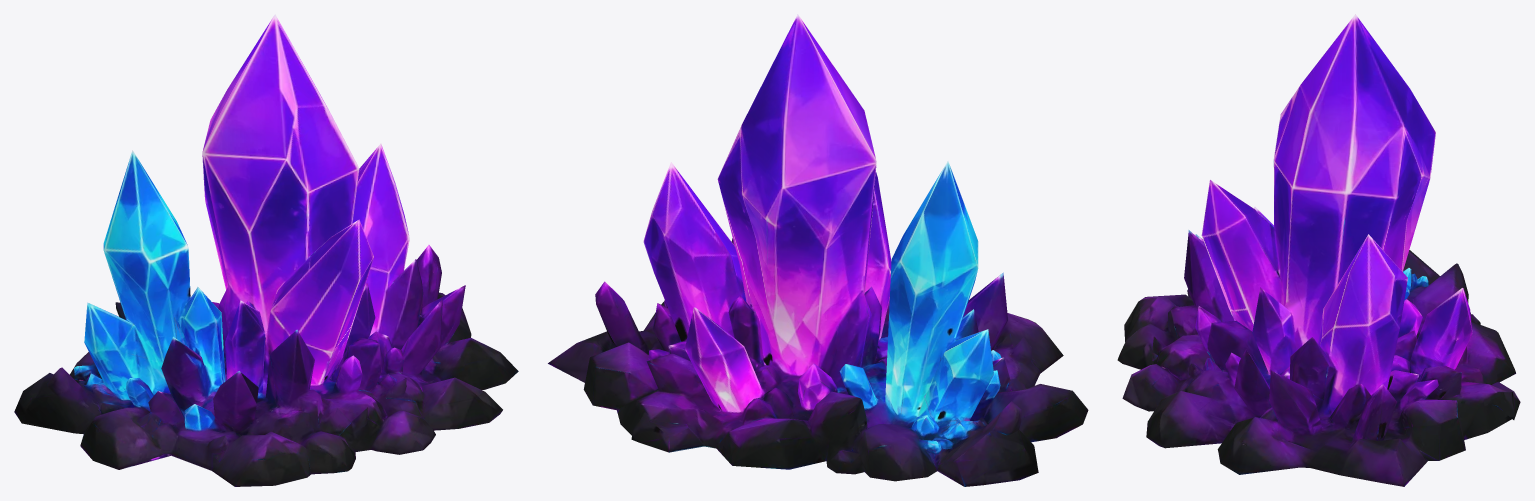
Rendered from rock_crystal.glb.
The picture shows the model from 3 angles, left to right: view 1: azimuth 30°, elevation 25°; view 2: azimuth 150°, elevation 25°; view 3: azimuth 270°, elevation 25°; orthographic projection. The views are drawn at different scales.
Visible parts, largest first — view 1: Mesh1.0; view 2: Mesh1.0; view 3: Mesh1.0.
Boxes of the visible parts, box(x1,y1,x2,y2) form: Mesh1.0: box(14, 14, 518, 486); Mesh1.0: box(548, 14, 1088, 486); Mesh1.0: box(1117, 14, 1520, 486).
Bounding box in the file's own units: 1.91 × 1.47 × 1.45.
Materials: 1 (1 with a texture image).
